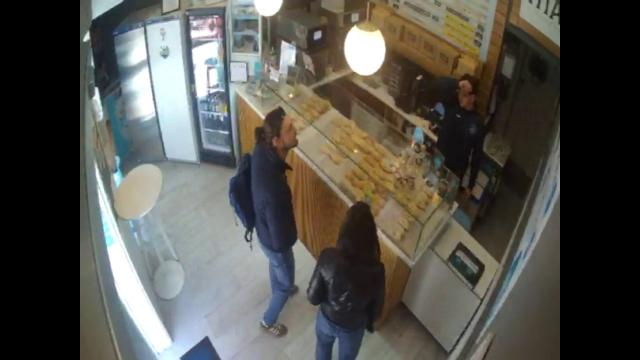cliente: (229, 106, 298, 335), (306, 202, 385, 360)
empleado: (438, 74, 487, 193)
